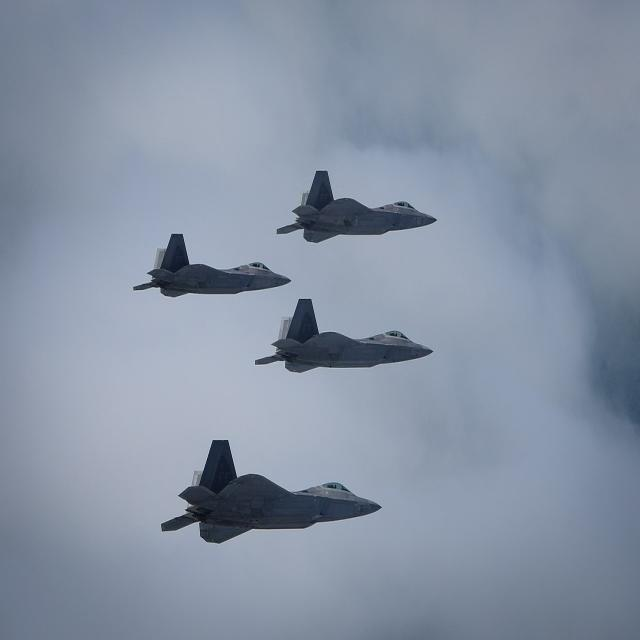MIL_Plane: (160, 451, 382, 531), (255, 297, 433, 373), (276, 168, 438, 244), (133, 232, 291, 298)
